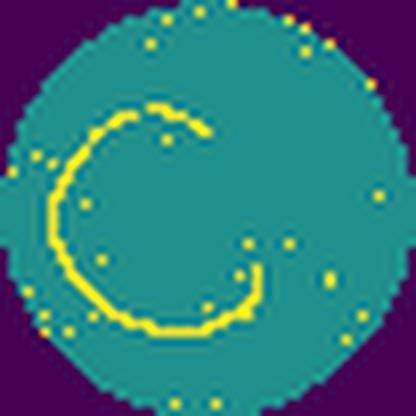Donut: (39, 94, 273, 348)
